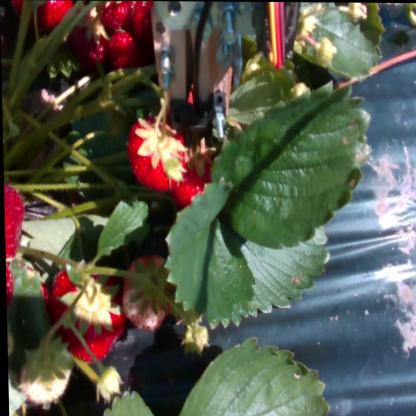ripe: (49, 278, 130, 359), (120, 256, 175, 327), (131, 127, 187, 185), (5, 265, 47, 323), (177, 150, 218, 200), (3, 184, 29, 259), (73, 21, 108, 65), (26, 0, 77, 27), (106, 31, 138, 69), (126, 1, 157, 34), (98, 2, 128, 26)
